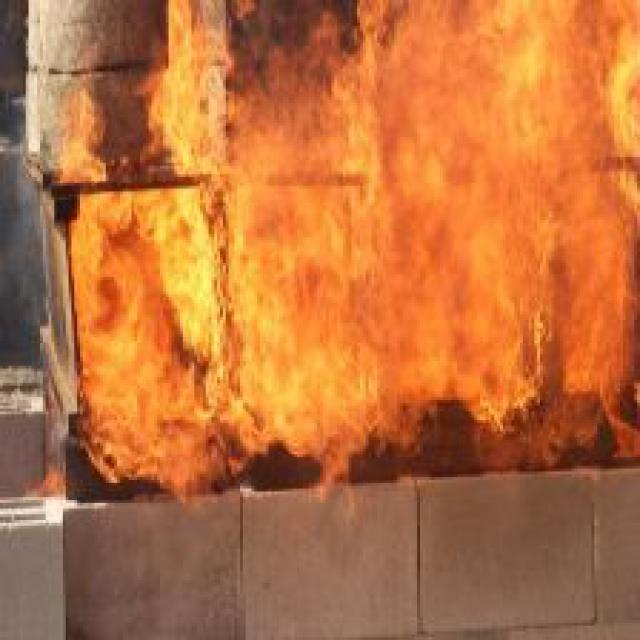fire: (32, 3, 637, 503)
